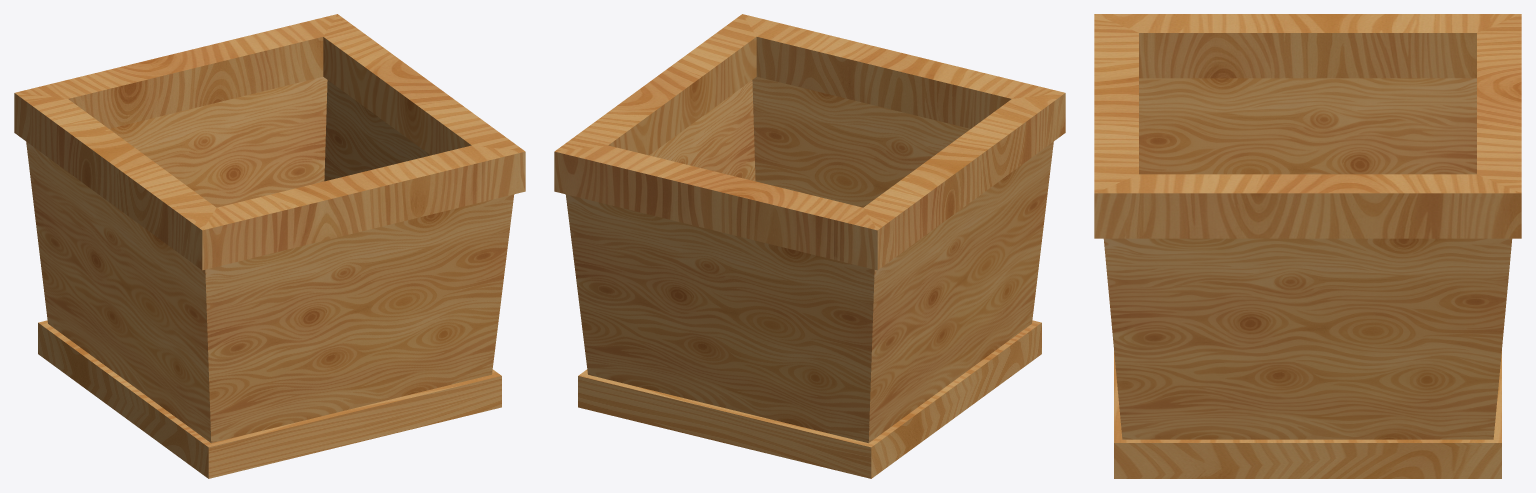
The model's file is Candy_Basket.fbx.
3 renders of one model, left to right at view 1: azimuth 30°, elevation 25°; view 2: azimuth 150°, elevation 25°; view 3: azimuth 270°, elevation 25°, orthographic. The views are drawn at different scales.
Parts seen in each view (by area): view 1: Candy_Basket; view 2: Candy_Basket; view 3: Candy_Basket.
Part boxes in pixels (box(x1,y1,x2,y2)): Candy_Basket: box(14, 14, 525, 478); Candy_Basket: box(554, 14, 1065, 478); Candy_Basket: box(1094, 14, 1521, 478).
Bounding box in the file's own units: 55.73 × 42.61 × 56.13.
